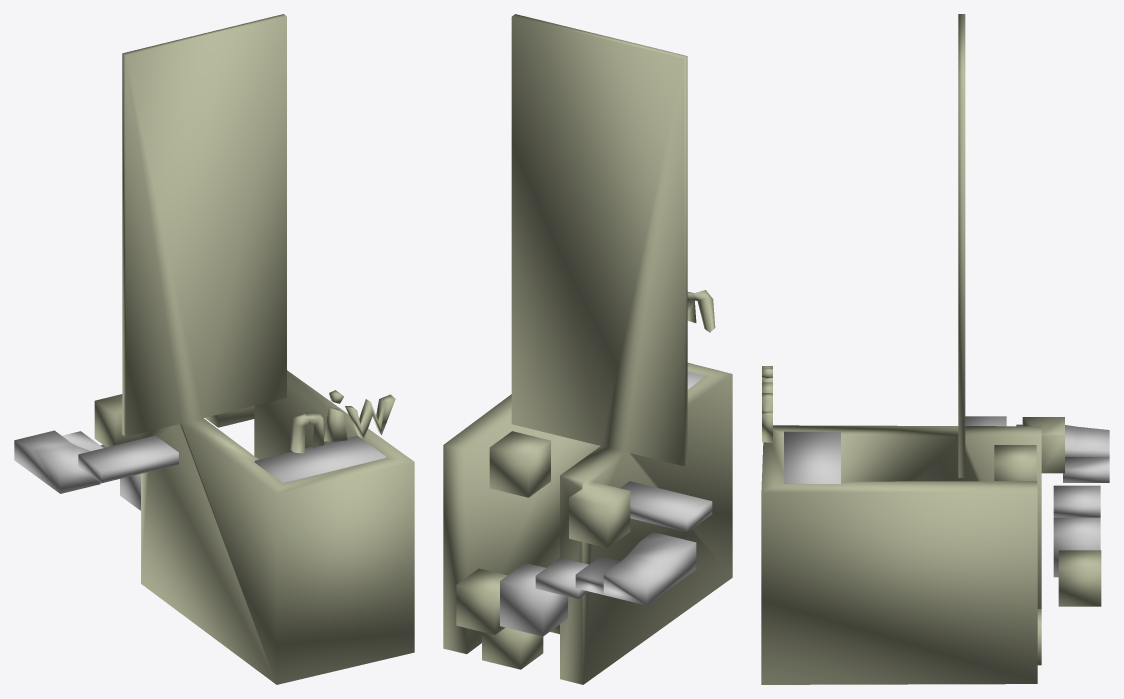
File: map.obj
3 views of the same model, side by side, from view 1: azimuth 30°, elevation 25°; view 2: azimuth 150°, elevation 25°; view 3: azimuth 270°, elevation 25° (orthographic). The views are drawn at different scales.
Parts seen in each view (by area): view 1: obj_0, Cube.002_Cube.003, Cube.004_Cube.005, Cube.003_Cube.004, win_obj_0.002; view 2: obj_0, Cube.002_Cube.003, Cube_Cube.001, Cube.003_Cube.004, Cube.001_Cube.002, win_obj_0.002; view 3: obj_0, Cube.004_Cube.005, Cube.002_Cube.003, Cube_Cube.001, Cube.001_Cube.002, win_obj_0.002.
Boxes of the visible parts, x1=… form: obj_0: x1=94, y1=14, x2=414, y2=684; Cube.002_Cube.003: x1=14, y1=430, x2=103, y2=493; Cube.004_Cube.005: x1=254, y1=435, x2=385, y2=482; Cube.003_Cube.004: x1=78, y1=435, x2=178, y2=483; win_obj_0.002: x1=289, y1=390, x2=395, y2=453; obj_0: x1=443, y1=14, x2=732, y2=684; Cube.002_Cube.003: x1=575, y1=532, x2=696, y2=605; Cube_Cube.001: x1=500, y1=563, x2=567, y2=636; Cube.003_Cube.004: x1=620, y1=481, x2=712, y2=532; Cube.001_Cube.002: x1=535, y1=557, x2=588, y2=598; win_obj_0.002: x1=687, y1=290, x2=715, y2=332; obj_0: x1=761, y1=14, x2=1101, y2=684; Cube.004_Cube.005: x1=784, y1=431, x2=840, y2=483; Cube.002_Cube.003: x1=1016, y1=424, x2=1109, y2=482; Cube_Cube.001: x1=1053, y1=517, x2=1100, y2=577; Cube.001_Cube.002: x1=1053, y1=485, x2=1100, y2=517; win_obj_0.002: x1=762, y1=366, x2=772, y2=442.
Size of the model in its own units: 78.15 by 187 by 102.
